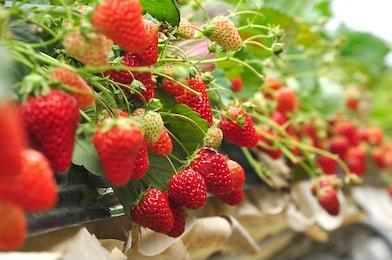Fresa: (21, 89, 88, 179), (89, 114, 140, 188), (185, 143, 237, 199), (127, 186, 177, 235), (165, 168, 212, 213), (218, 103, 263, 150)
